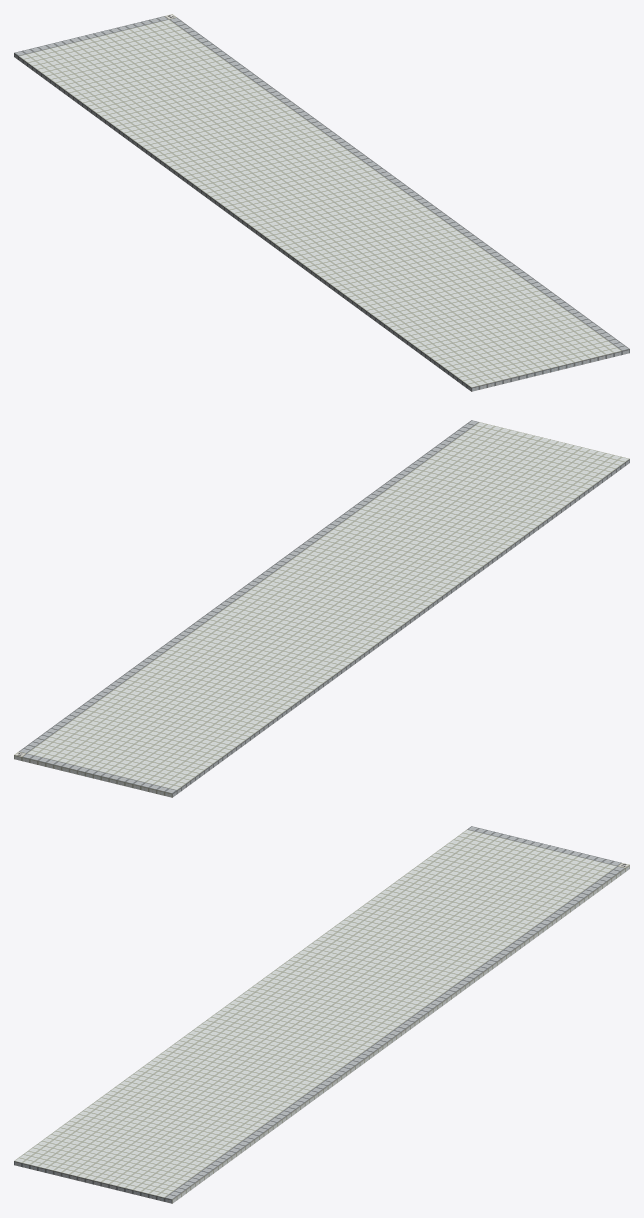
The model's file is Brick Flat 100x20.fbx.
The picture shows the model from 3 angles, top to bottom: view 1: azimuth 30°, elevation 25°; view 2: azimuth 150°, elevation 25°; view 3: azimuth 330°, elevation 25°; orthographic projection.
Visible parts, largest first — view 1: Cube; view 2: Cube; view 3: Cube.
Part boxes in pixels (<box>): Cube: <box>14,14,629,391</box>; Cube: <box>14,420,629,797</box>; Cube: <box>14,826,629,1203</box>.
Size of the model in its own units: 20 by 0.5 by 100.
